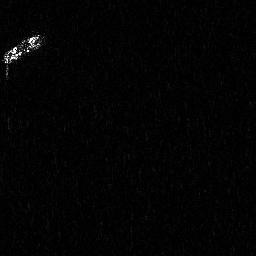ship: (1, 32, 44, 81)
